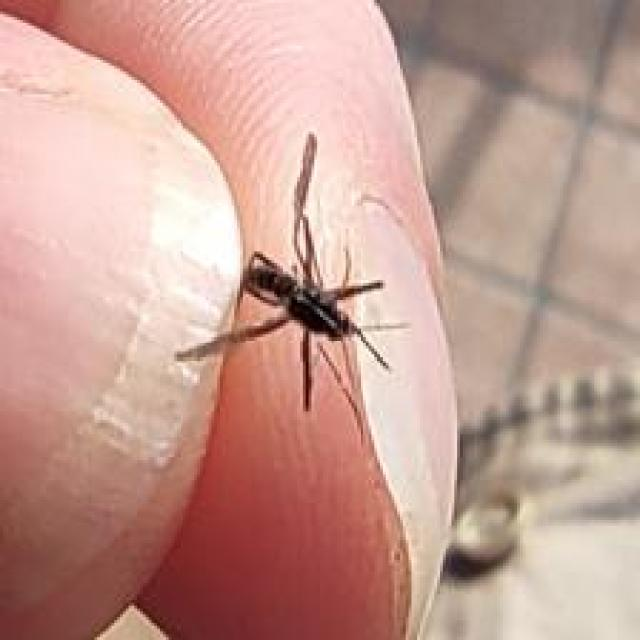Aedes albopictus: (173, 131, 410, 443)
